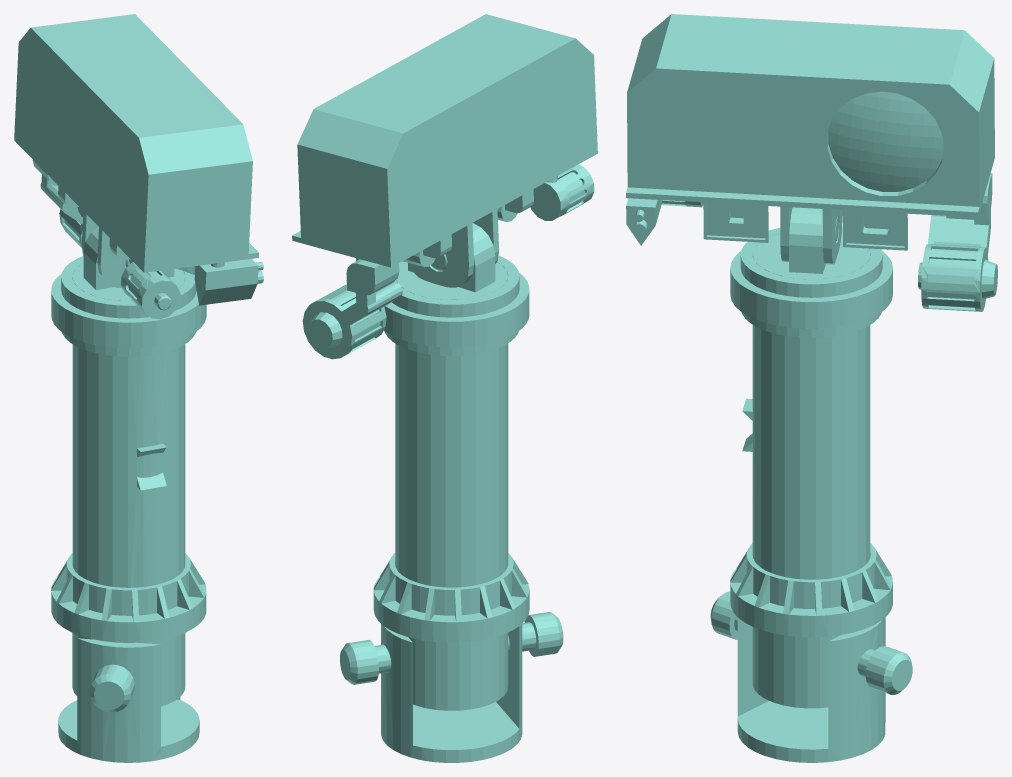
The model's file is Mars6Mars_Rover__Curiosity_1_0__-_7__Matscam_Holder-1.001.dae.
3 renders of one model, left to right at view 1: azimuth 30°, elevation 25°; view 2: azimuth 150°, elevation 25°; view 3: azimuth 270°, elevation 25°, orthographic. The views are drawn at different scales.
Parts seen in each view (by area): view 1: tmp_export_Mars6Mars_Rover__Curiosity_1_0__-_7__Matscam_Hold; view 2: tmp_export_Mars6Mars_Rover__Curiosity_1_0__-_7__Matscam_Hold; view 3: tmp_export_Mars6Mars_Rover__Curiosity_1_0__-_7__Matscam_Hold.
Part boxes in pixels (left/top/right/bottom): tmp_export_Mars6Mars_Rover__Curiosity_1_0__-_7__Matscam_Hold: left=14, top=14, right=263, bottom=762; tmp_export_Mars6Mars_Rover__Curiosity_1_0__-_7__Matscam_Hold: left=292, top=14, right=597, bottom=762; tmp_export_Mars6Mars_Rover__Curiosity_1_0__-_7__Matscam_Hold: left=626, top=14, right=997, bottom=762.
Size of the model in its own units: 0.044 by 0.0882 by 0.1816.
